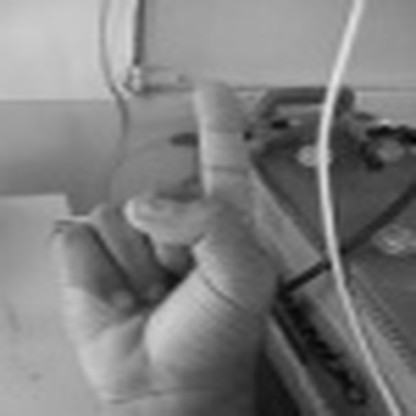d: (42, 72, 268, 416)
